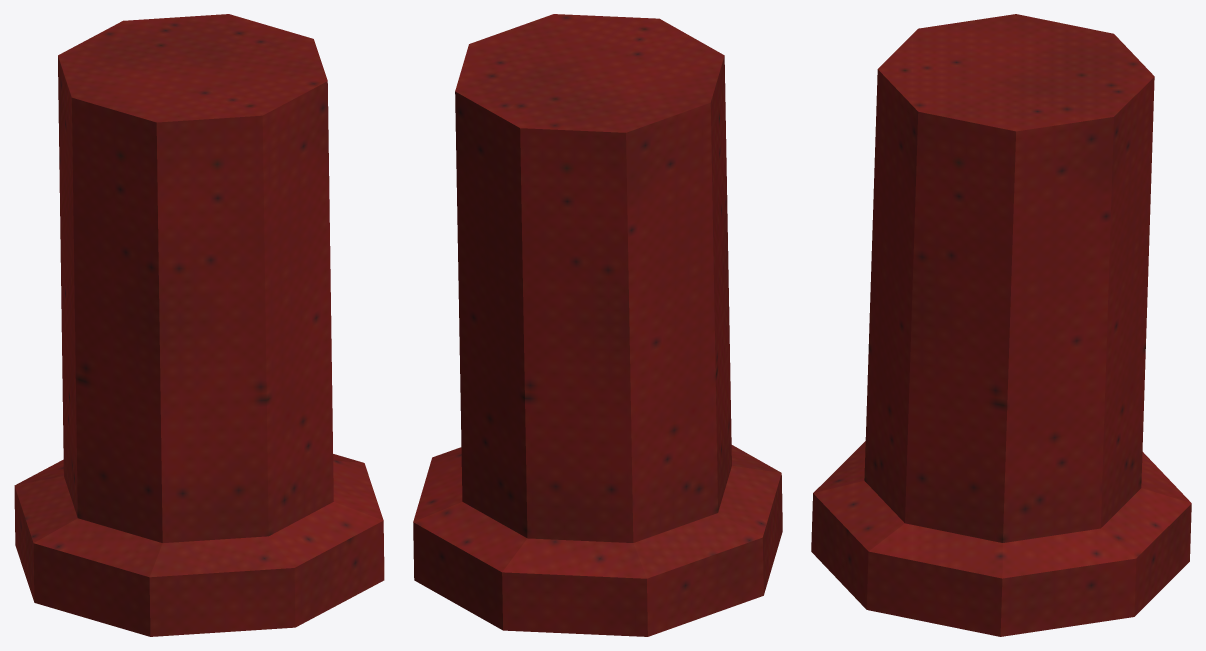
Rendered from ShotgunShell.fbx.
3 views of the same model, side by side, from view 1: azimuth 30°, elevation 25°; view 2: azimuth 150°, elevation 25°; view 3: azimuth 270°, elevation 25° (orthographic).
Visible parts, largest first — view 1: ShotgunShell; view 2: ShotgunShell; view 3: ShotgunShell.
Part boxes in pixels (x1=…): ShotgunShell: x1=14, y1=14, x2=384, y2=636; ShotgunShell: x1=413, y1=14, x2=782, y2=636; ShotgunShell: x1=811, y1=14, x2=1191, y2=636.
Bounding box in the file's own units: 0.0482 × 0.0692 × 0.0484.
Materials: 1 (1 with a texture image).
